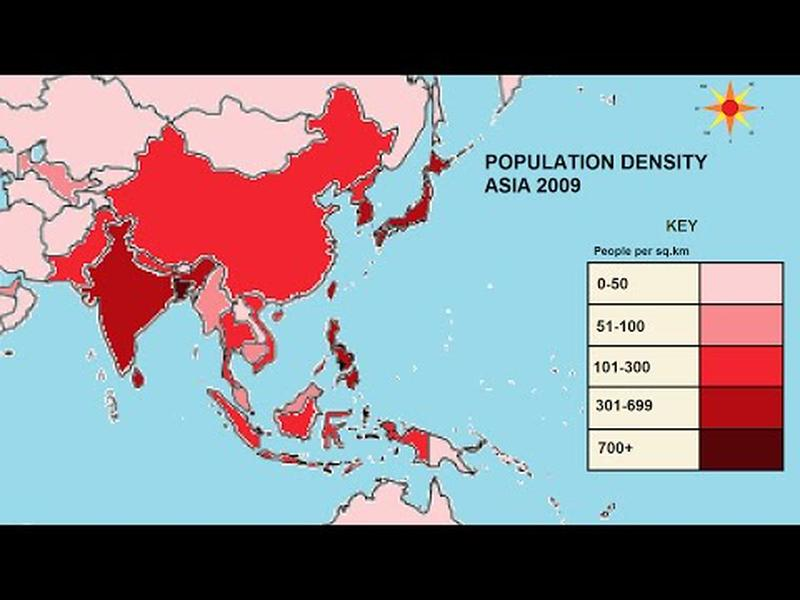legend: (583, 217, 788, 475)
